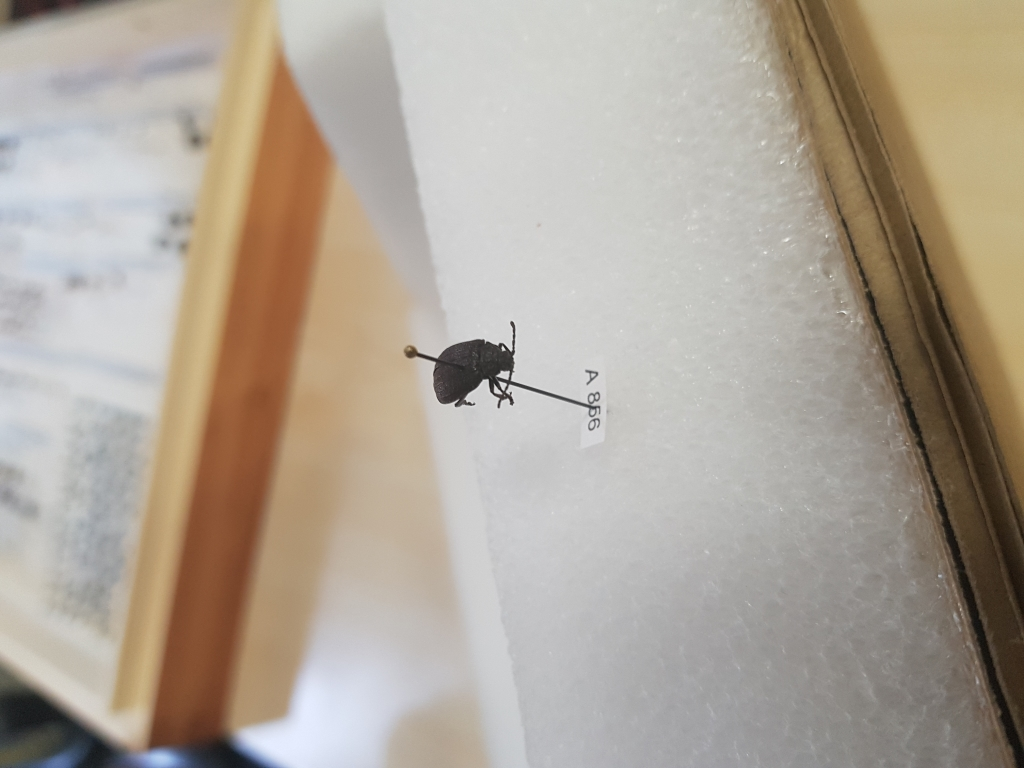Galeruca_tanaceti: (427, 319, 525, 413)
